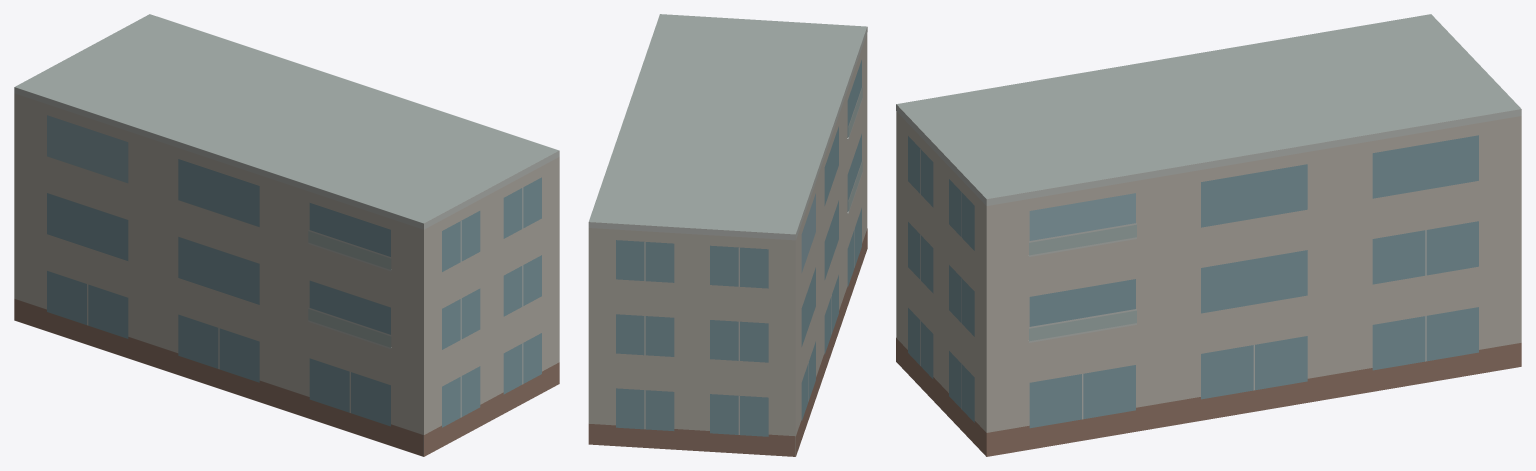
The model's file is survey-upis-32698476.glb.
3 renders of one model, left to right at view 1: azimuth 30°, elevation 25°; view 2: azimuth 150°, elevation 25°; view 3: azimuth 270°, elevation 25°, orthographic. The views are drawn at different scales.
Parts seen in each view (by area): view 1: survey-upis-32698476.tmp; view 2: survey-upis-32698476.tmp; view 3: survey-upis-32698476.tmp.
Part boxes in pixels (bbox=[...]): survey-upis-32698476.tmp: bbox=[14, 14, 559, 456]; survey-upis-32698476.tmp: bbox=[588, 14, 867, 456]; survey-upis-32698476.tmp: bbox=[896, 14, 1521, 456].
Size of the model in its own units: 14.12 by 9.15 by 20.14.
